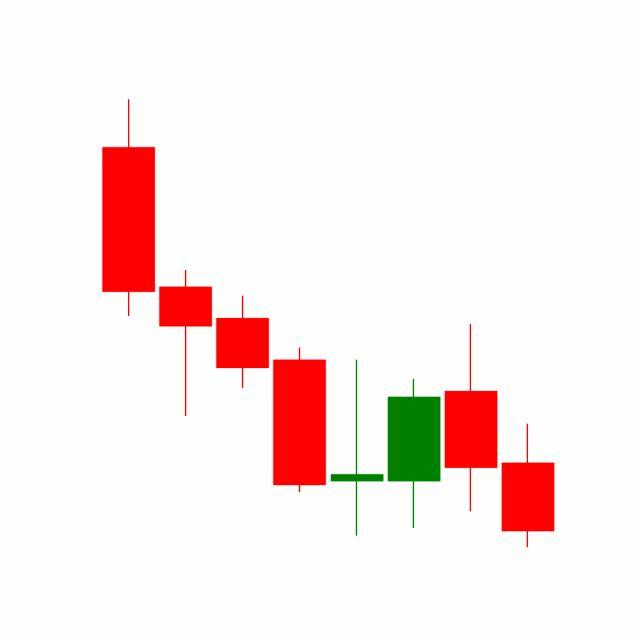Hikkake Pattern: (270, 321, 555, 549)
